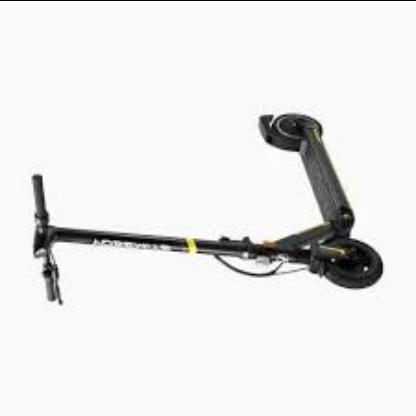bike: (27, 114, 384, 294)
